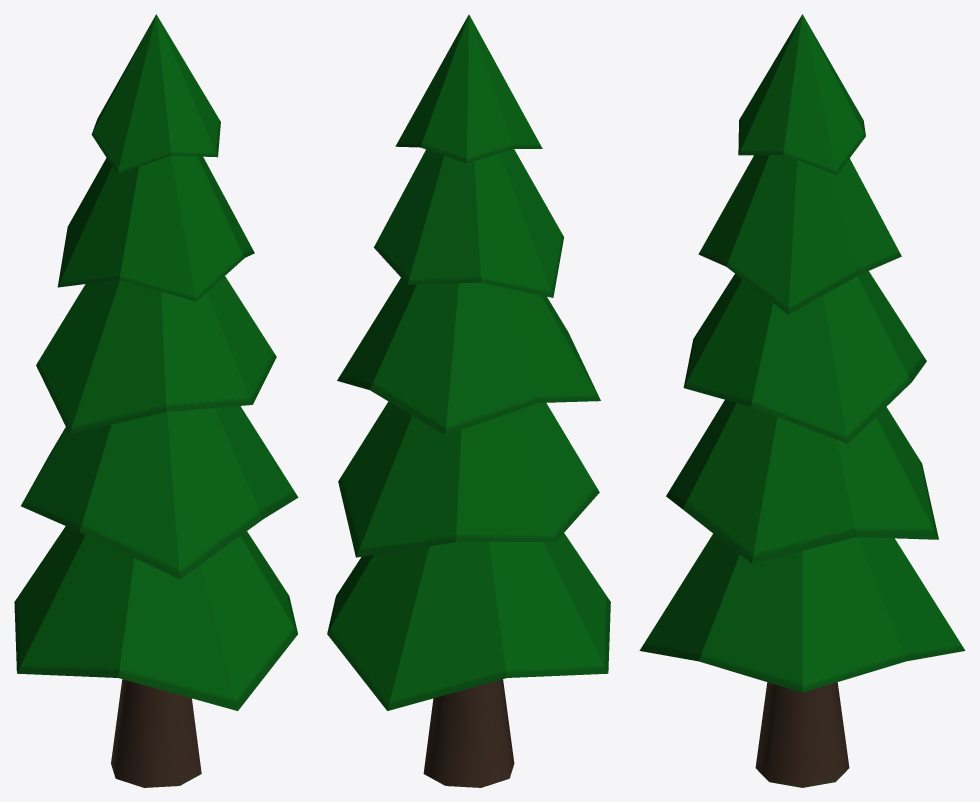
File: M_Tree.fbx
3 renders of one model, left to right at view 1: azimuth 30°, elevation 25°; view 2: azimuth 150°, elevation 25°; view 3: azimuth 270°, elevation 25°, orthographic.
Parts seen in each view (by area): view 1: M_Tree; view 2: M_Tree; view 3: M_Tree.
Part boxes in pixels (<box>): M_Tree: <box>14,14,298,787</box>; M_Tree: <box>327,14,610,787</box>; M_Tree: <box>639,14,965,787</box>.
Size of the model in its own units: 168 by 446 by 175.
